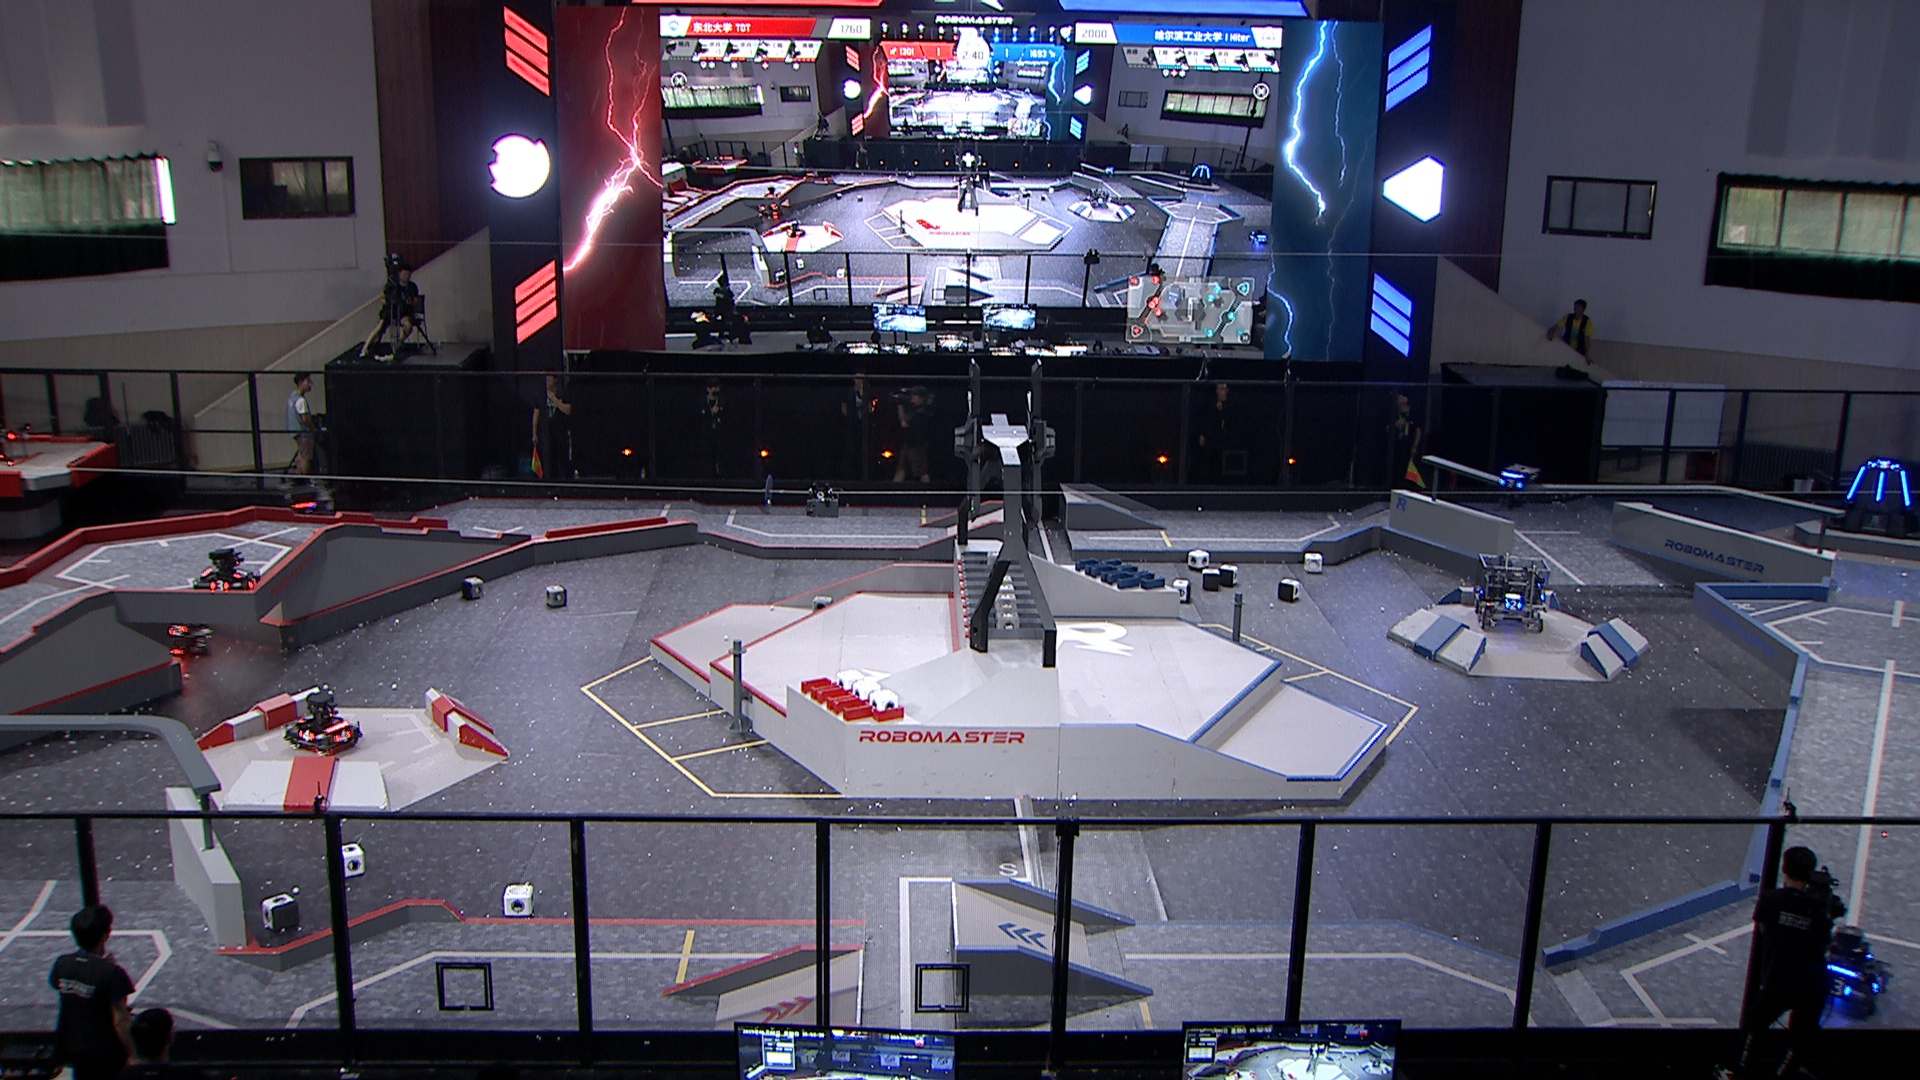armor: (1845, 462, 1866, 504), (1898, 465, 1912, 509), (1826, 975, 1851, 998), (1874, 469, 1888, 501), (1498, 473, 1524, 491), (164, 622, 189, 638), (204, 579, 229, 595), (1503, 597, 1524, 615), (330, 727, 352, 742), (1870, 458, 1899, 469), (229, 564, 251, 580), (295, 728, 318, 742), (294, 711, 316, 725), (240, 574, 258, 589)
base: (1820, 454, 1920, 546)
car: (1801, 924, 1896, 1014), (1470, 551, 1557, 632), (129, 593, 216, 665), (284, 688, 367, 760), (195, 545, 266, 599)
ignore: (1083, 185, 1114, 208), (1187, 162, 1215, 187), (785, 218, 808, 237)
watcher: (1493, 458, 1543, 506)
